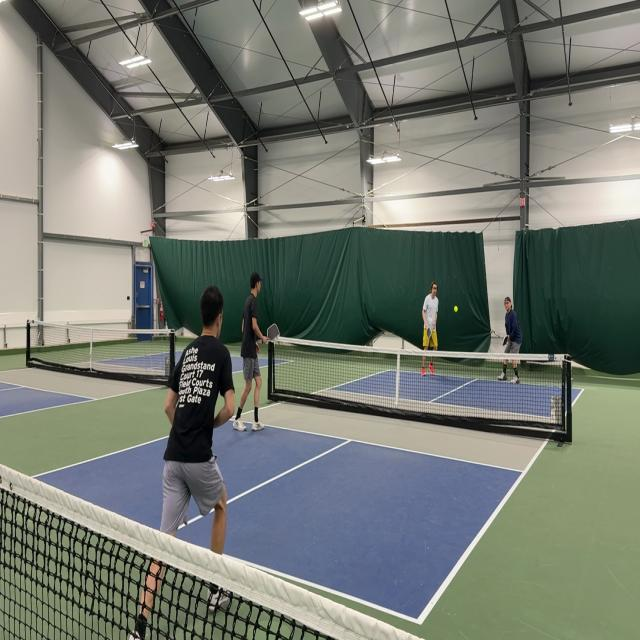ball: (454, 305, 458, 313)
